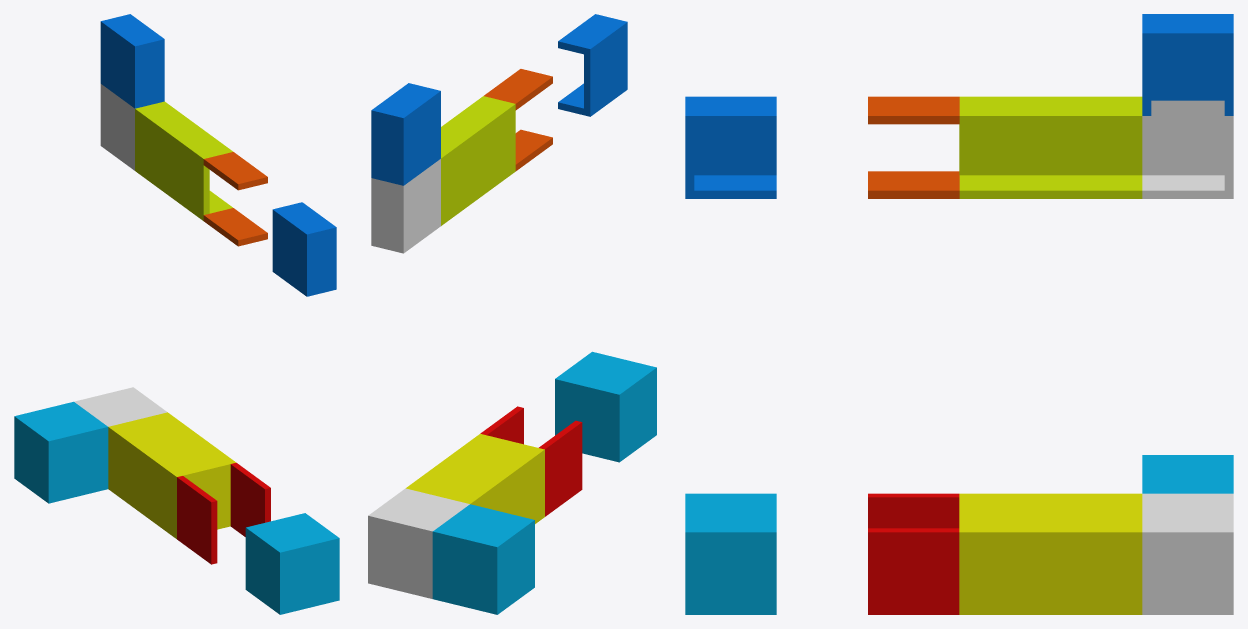
The model's file is stage1_UV.fbx.
3 renders of one model, left to right at view 1: azimuth 30°, elevation 25°; view 2: azimuth 150°, elevation 25°; view 3: azimuth 270°, elevation 25°, orthographic. The views are drawn at different scales.
Visible parts, largest first — view 1: kado3d.002, kado3d.001, tyoku3d.003, kado2d.002, kado2d.001, hole3d.001, tyoku3d.001, tyoku2d.002, tyoku2d.003, 立方体.003, elu2d.001, 立方体.001; view 2: kado3d.002, kado3d.001, 立方体.001, kado2d.002, kado2d.001, elu2d.001, tyoku3d.003, tyoku2d.002, hole3d.001, tyoku2d.003, tyoku3d.001, 立方体.003; view 3: kado3d.001, 立方体.001, tyoku3d.003, tyoku3d.001, hole3d.001, kado2d.001, tyoku2d.003, tyoku2d.002, elu2d.001, kado2d.002, 立方体.003, kado3d.002.
Part boxes in pixels (x1=…): kado3d.002: x1=14, y1=401, x2=108, y2=503; kado3d.001: x1=245, y1=513, x2=339, y2=614; tyoku3d.003: x1=142, y1=437, x2=235, y2=538; kado2d.002: x1=100, y1=14, x2=164, y2=108; kado2d.001: x1=272, y1=202, x2=336, y2=296; hole3d.001: x1=177, y1=462, x2=270, y2=564; tyoku3d.001: x1=108, y1=412, x2=201, y2=513; tyoku2d.002: x1=169, y1=126, x2=232, y2=220; tyoku2d.003: x1=135, y1=101, x2=198, y2=195; 立方体.003: x1=203, y1=152, x2=267, y2=246; elu2d.001: x1=100, y1=84, x2=134, y2=170; 立方体.001: x1=74, y1=387, x2=167, y2=426; kado3d.002: x1=432, y1=504, x2=534, y2=614; kado3d.001: x1=555, y1=351, x2=656, y2=462; 立方体.001: x1=368, y1=488, x2=469, y2=598; kado2d.002: x1=371, y1=83, x2=440, y2=185; kado2d.001: x1=558, y1=14, x2=627, y2=116; elu2d.001: x1=371, y1=159, x2=440, y2=253; tyoku3d.003: x1=443, y1=433, x2=544, y2=523; tyoku2d.002: x1=446, y1=96, x2=515, y2=198; hole3d.001: x1=480, y1=406, x2=582, y2=516; tyoku2d.003: x1=441, y1=123, x2=478, y2=225; tyoku3d.001: x1=406, y1=461, x2=507, y2=512; 立方体.003: x1=484, y1=69, x2=552, y2=171; kado3d.001: x1=685, y1=493, x2=776, y2=614; 立方体.001: x1=1142, y1=493, x2=1233, y2=614; tyoku3d.003: x1=959, y1=493, x2=1050, y2=614; tyoku3d.001: x1=1051, y1=493, x2=1142, y2=614; hole3d.001: x1=868, y1=493, x2=959, y2=614; kado2d.001: x1=685, y1=96, x2=776, y2=198; tyoku2d.003: x1=1051, y1=96, x2=1142, y2=198; tyoku2d.002: x1=959, y1=96, x2=1050, y2=198; elu2d.001: x1=1142, y1=100, x2=1233, y2=198; kado2d.002: x1=1142, y1=14, x2=1233, y2=115; 立方体.003: x1=868, y1=96, x2=959, y2=198; kado3d.002: x1=1142, y1=455, x2=1233, y2=493.
Bounding box in the file's own units: 4000 × 14000 × 12000.
